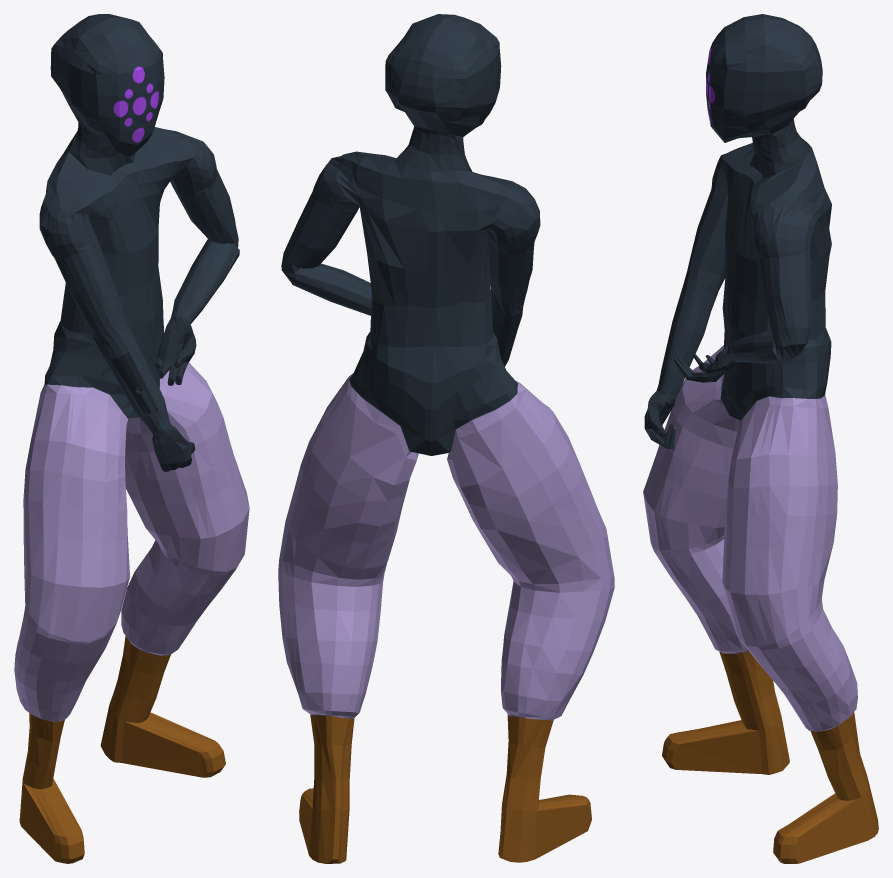
The model's file is Oracle_WR_000014.obj.
The picture shows the model from 3 angles, left to right: view 1: azimuth 30°, elevation 25°; view 2: azimuth 150°, elevation 25°; view 3: azimuth 270°, elevation 25°; orthographic projection. The views are drawn at different scales.
Visible parts, largest first — view 1: Cube; view 2: Cube; view 3: Cube.
Boxes of the visible parts, box(x1,y1,x2,y2) form: Cube: box(14, 14, 249, 863); Cube: box(278, 14, 614, 863); Cube: box(643, 14, 878, 863).
Size of the model in its own units: 1.33 by 3.78 by 1.03.
